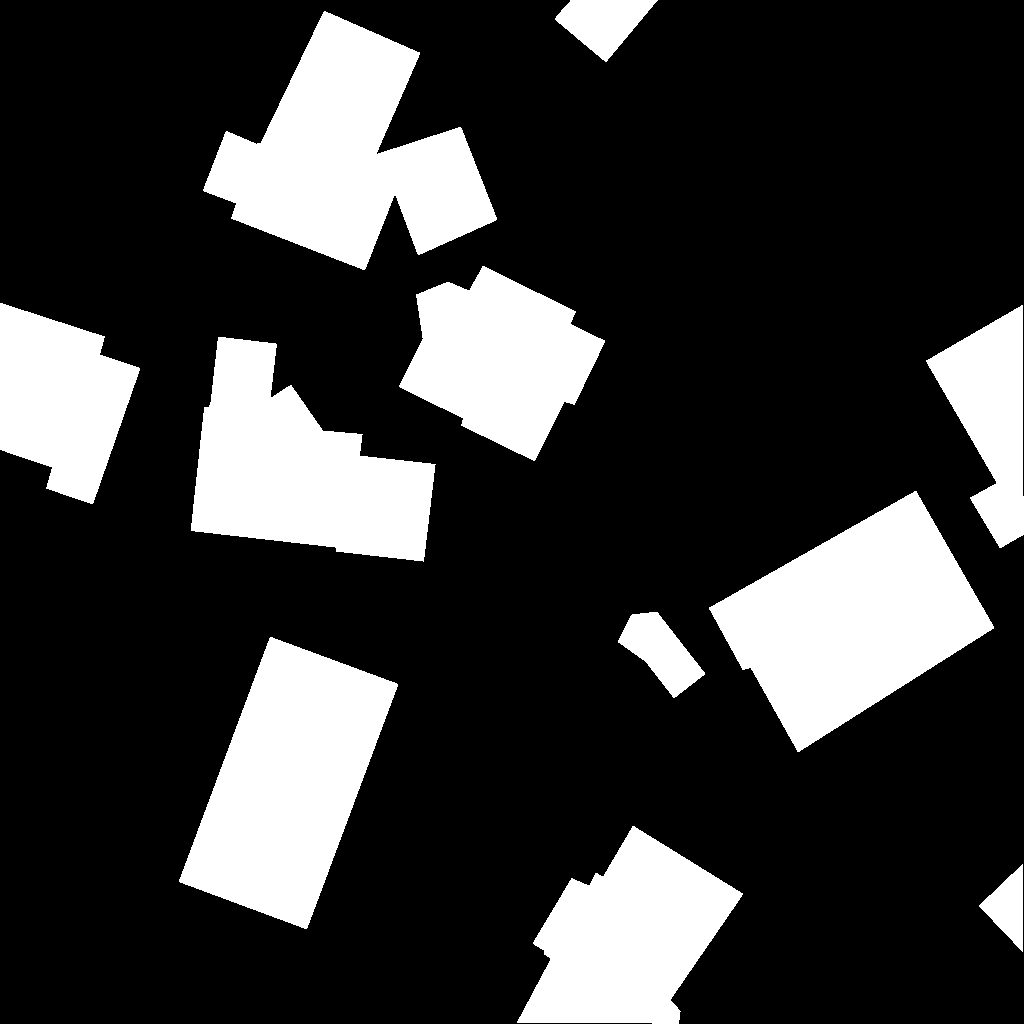building: (203, 11, 498, 271), (709, 491, 995, 753), (179, 637, 399, 930), (191, 337, 436, 562), (517, 826, 744, 1024), (399, 266, 606, 462), (0, 303, 141, 505), (926, 305, 1024, 549), (618, 612, 706, 699), (555, 0, 659, 63), (979, 864, 1024, 953)
